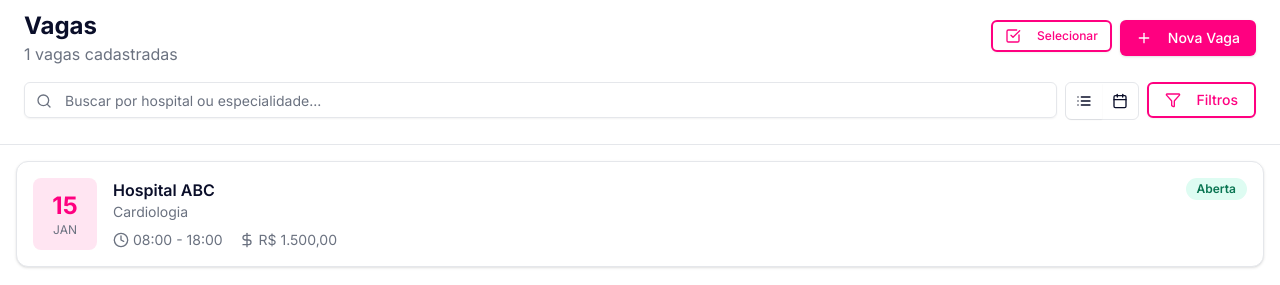
VagasPage › selection mode (Sprint 58) › deve alternar para modo seleção ao clicar Selecionar
Click the button "Selecionar". click: x=1052, y=36
box: [991,20,1112,52]
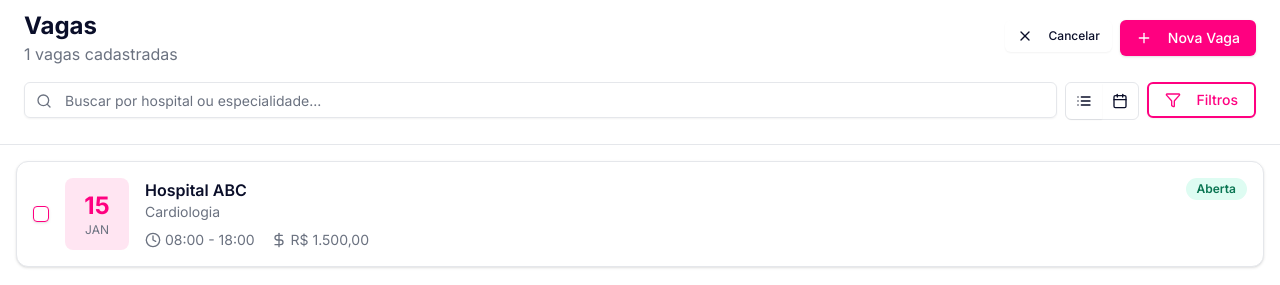
Check: the button "Cancelar" is shown, box [1004,20,1112,52]
Check: the checkbox is shown, box [33,206,49,222]
